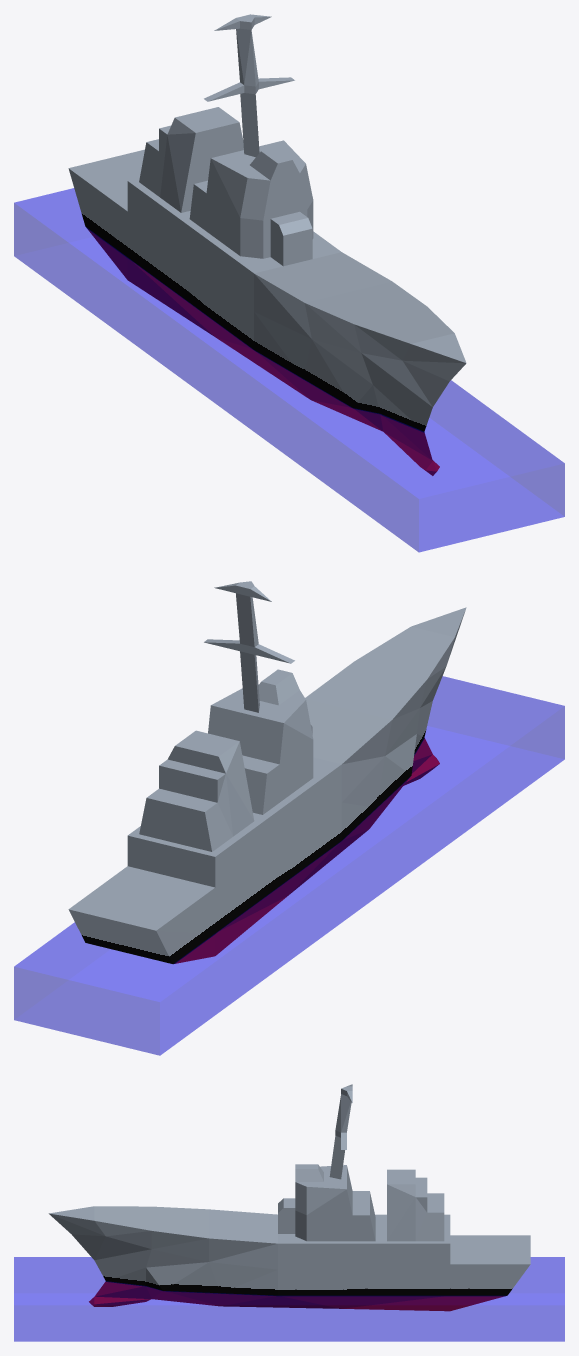
File: boat.glb
3 renders of one model, top to bottom at view 1: azimuth 30°, elevation 25°; view 2: azimuth 150°, elevation 25°; view 3: azimuth 270°, elevation 25°, orthographic. The views are drawn at different scales.
Visible parts, largest first — view 1: ship, sea; view 2: ship, sea; view 3: ship, sea.
Boxes of the visible parts, bbox=[...] form: ship: bbox=[68, 14, 466, 475]; sea: bbox=[14, 188, 564, 552]; ship: bbox=[68, 581, 466, 964]; sea: bbox=[14, 676, 564, 1055]; ship: bbox=[48, 1084, 530, 1311]; sea: bbox=[14, 1257, 564, 1341].
Bounding box in the file's own units: 20 × 44 × 96.
2 materials, 1 textured.
